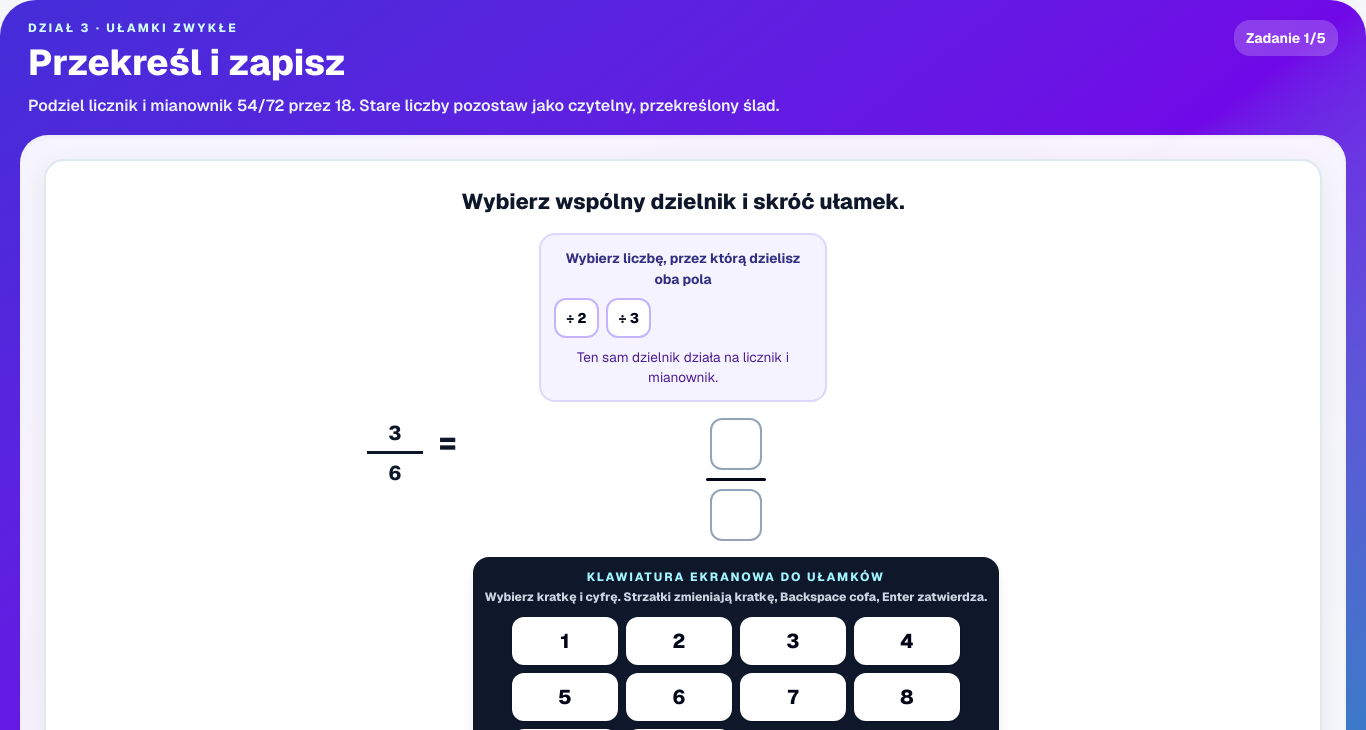
Test: FractionEquivalenceLessonModel — pionowy zapis, pary, modele i dostępność › skraca 3/6 w jednej linii i automatycznie przechodzi dalej bez zdublowanej nawigacji
expect the text "Zadanie 1/5" is shown once: met, box [1234,20,1338,56]
Click the button "÷ 3": click(629, 318) [606,298,651,338]
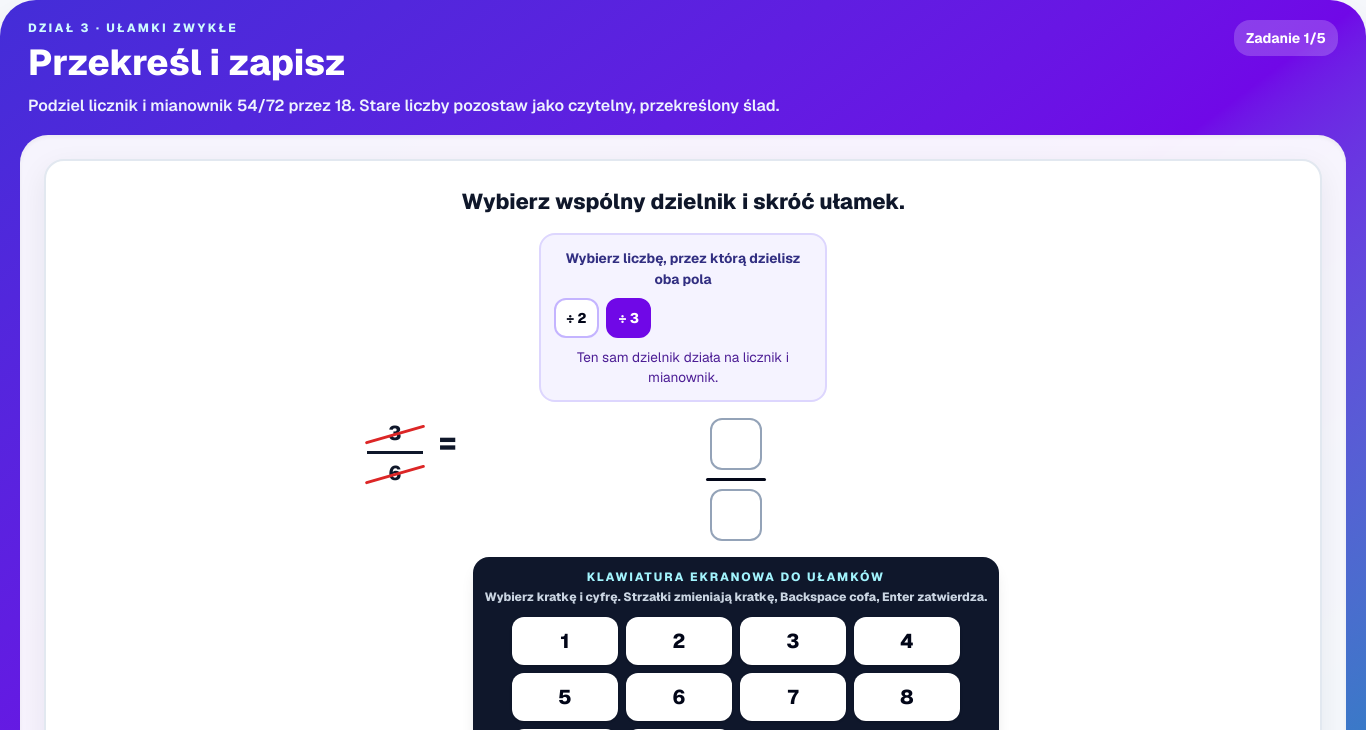
In the field named "licznik, cyfra 1 z 1": (736, 444) [710,418,762,470], type "1"
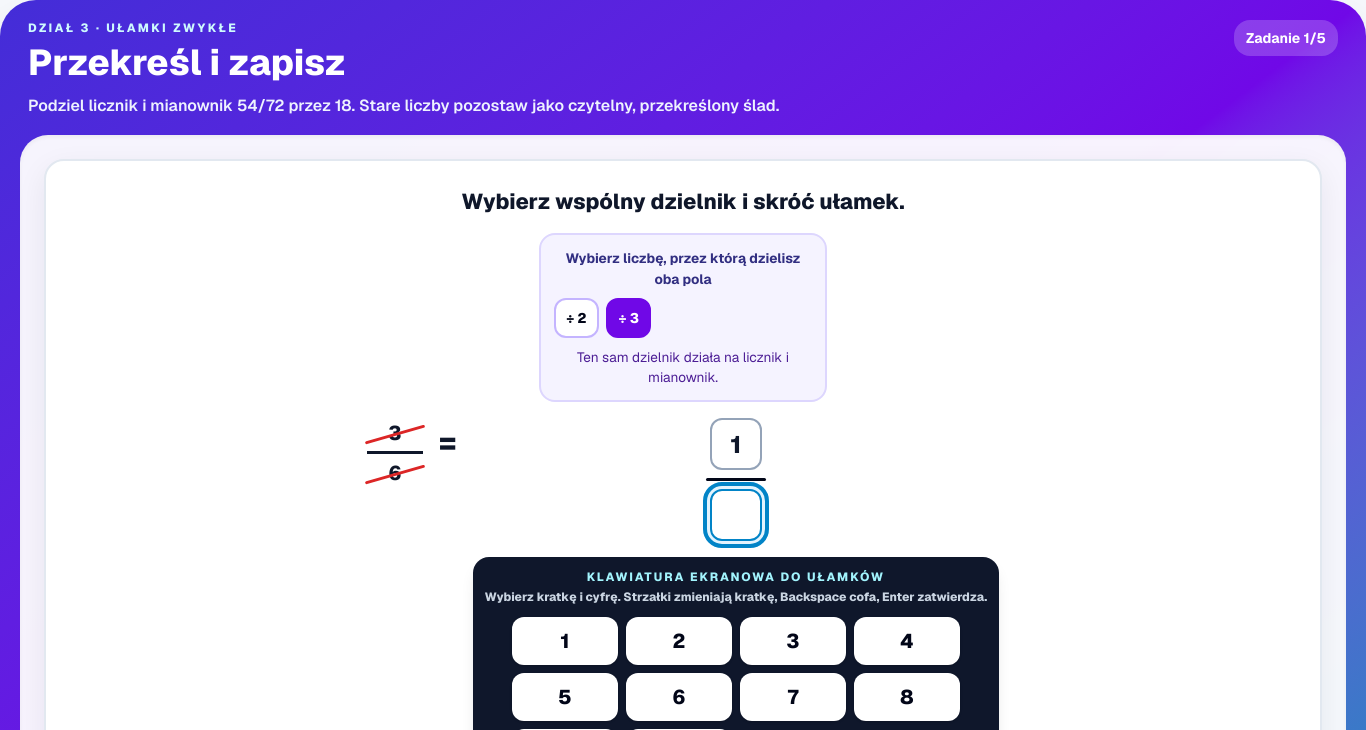
In the field named "mianownik, cyfra 1 z 1": (736, 515) [710,489,762,541], type "2"
(page scrolled)
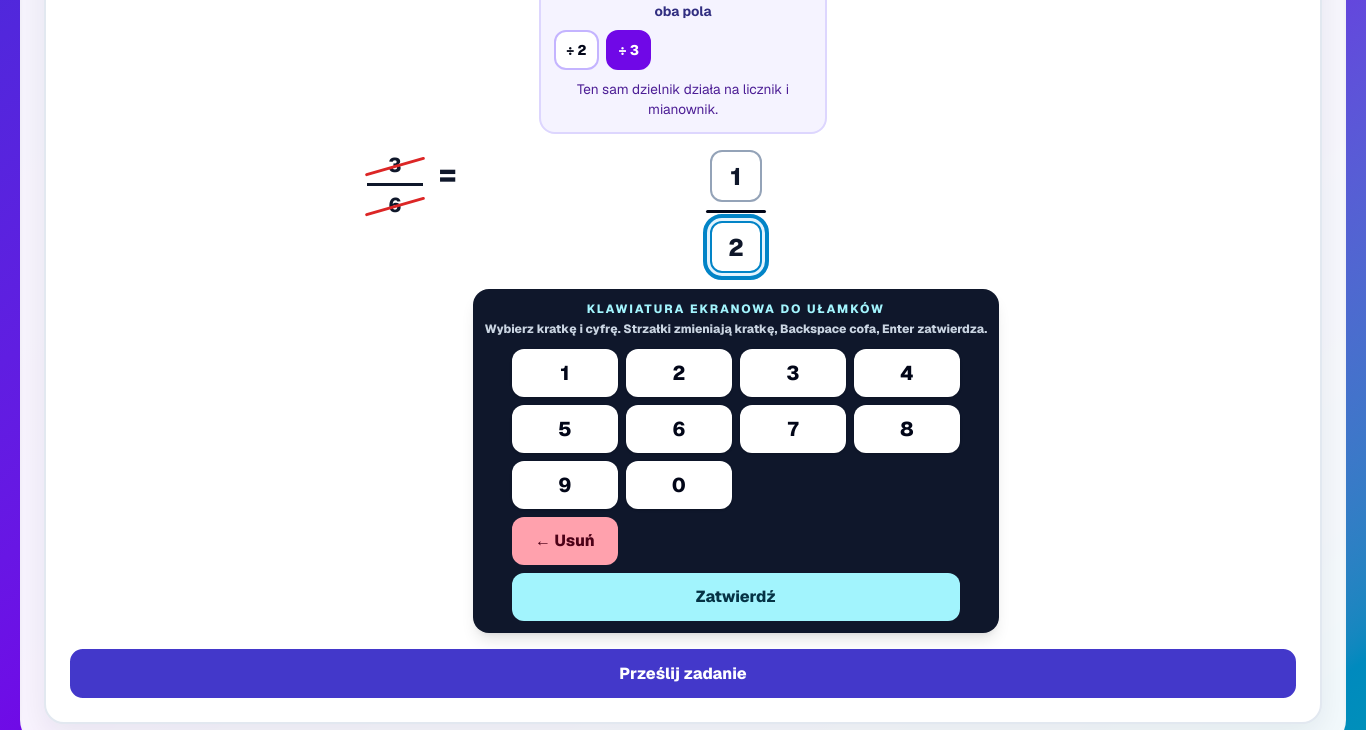
Click the button "Prześlij zadanie": click(683, 674) [70,649,1296,698]
(page scrolled)
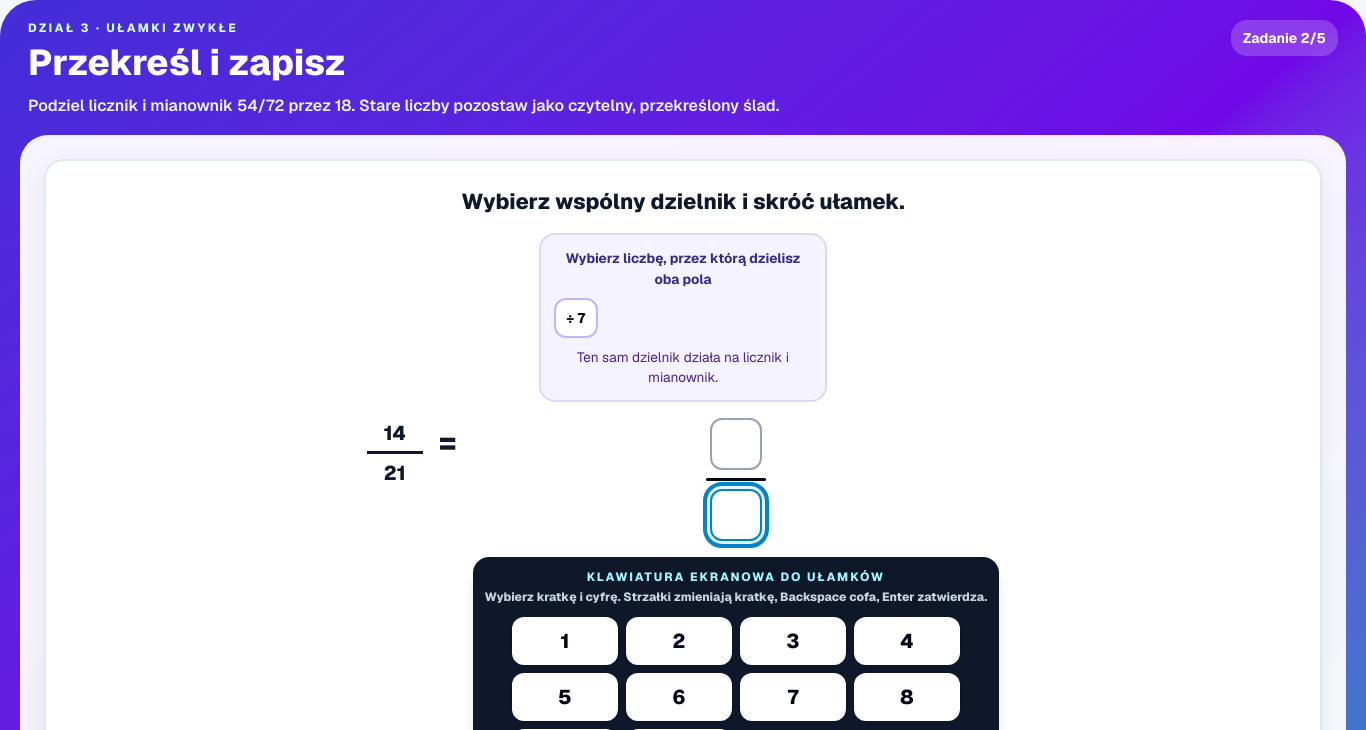
expect the text "Zadanie 2/5" is shown: met, box [1231,20,1338,56]
